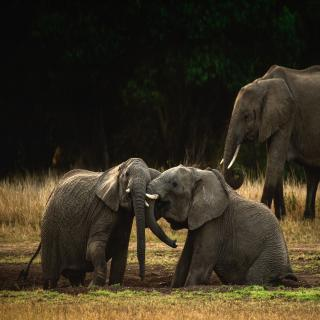Elephant: (142, 160, 306, 301), (218, 52, 320, 225), (29, 158, 158, 292)
